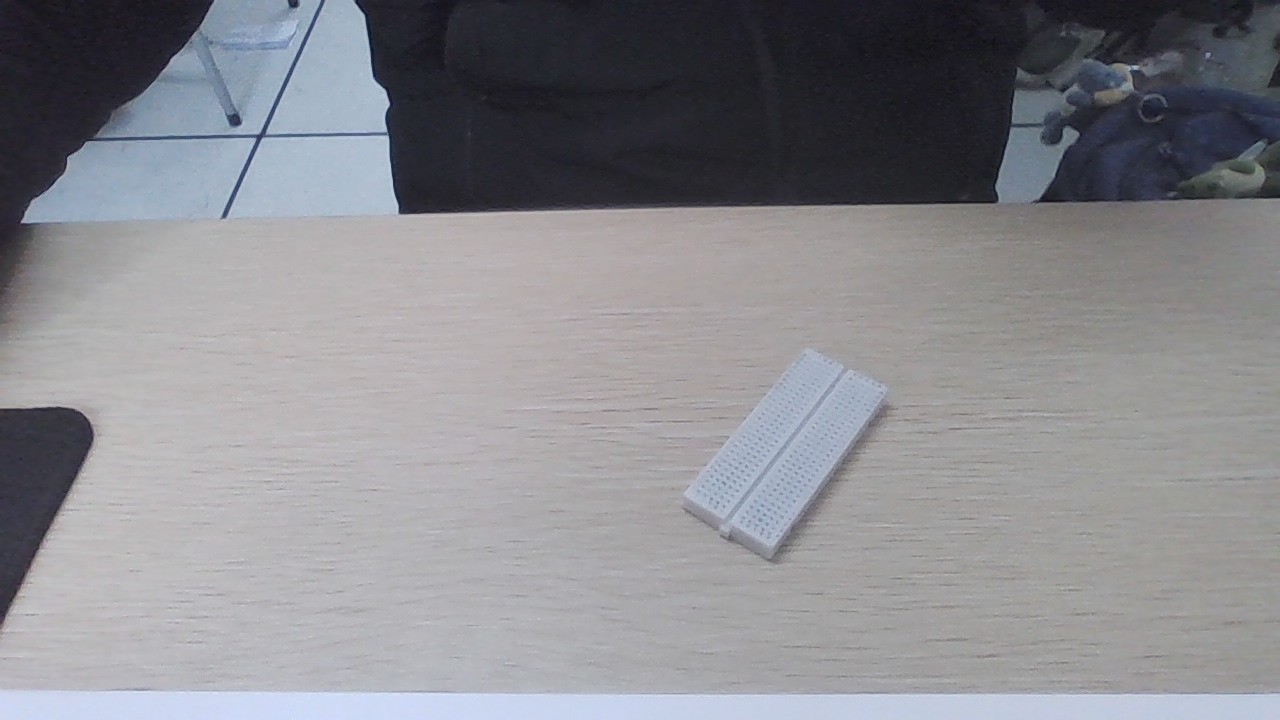KHS-breadboard: (693, 360, 882, 546)
